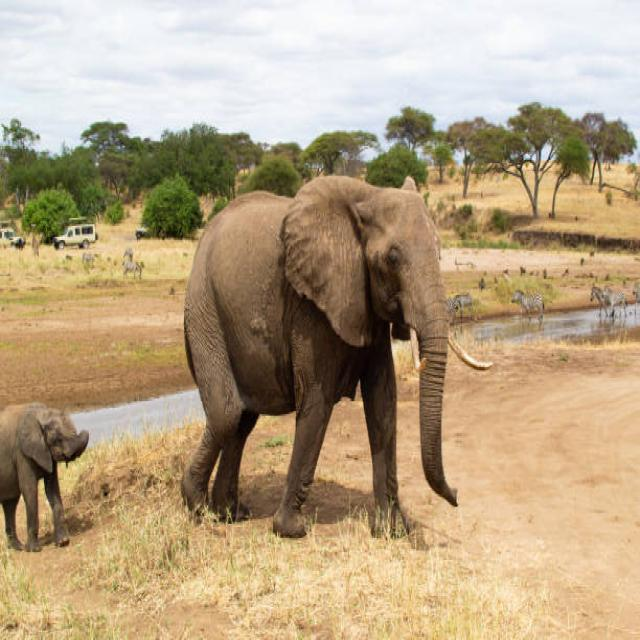Elephant: (151, 159, 481, 545), (0, 377, 114, 586)
